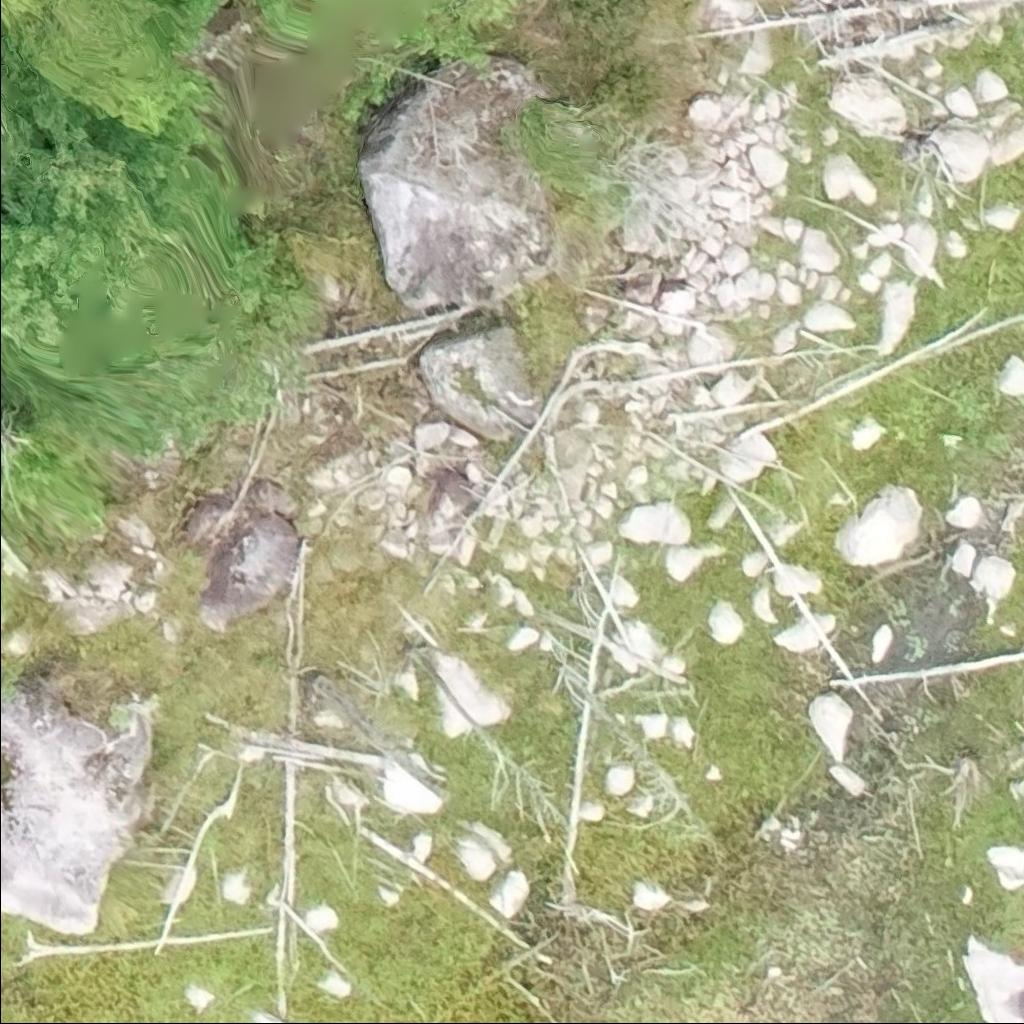crown: (0, 61, 28, 165), (0, 0, 47, 30)
